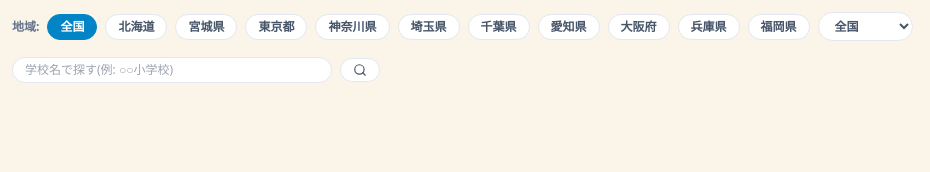
Test: ReportRegionFilter › 0件ならその旨を表示する
The width and height of the screenshot is (930, 172).
Type "存在しない学校" into the field labelled "学校名で探す" at (172, 70), box x1=12 y1=57 x2=332 y2=83
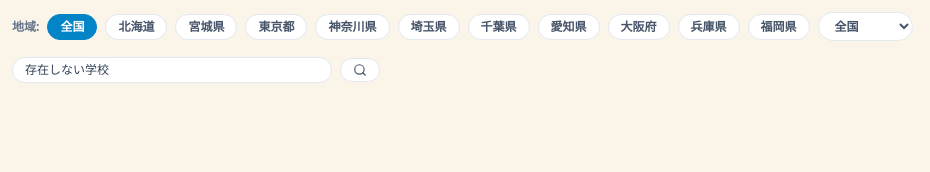
Click the button named "学校を検索" at (360, 70), box x1=340 y1=58 x2=380 y2=82
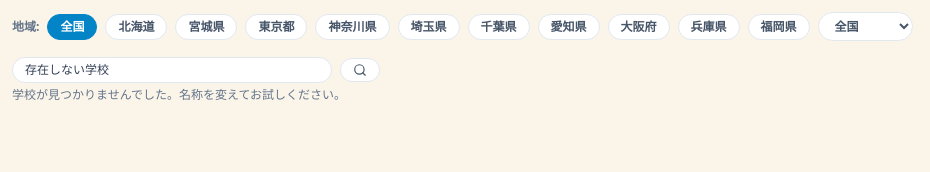
Now the text "学校が見つかりませんでした。名称を変えてお試しください。" is shown, box x1=12 y1=86 x2=346 y2=103
